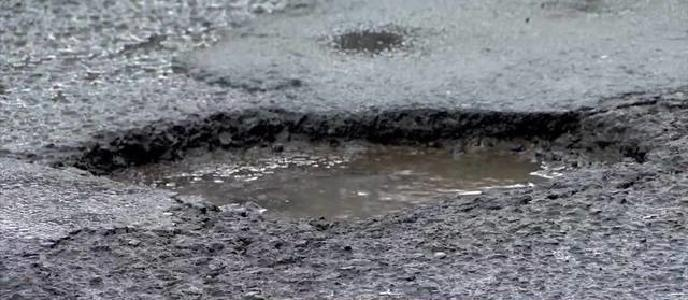pothole: (43, 102, 654, 230), (325, 21, 412, 57)
